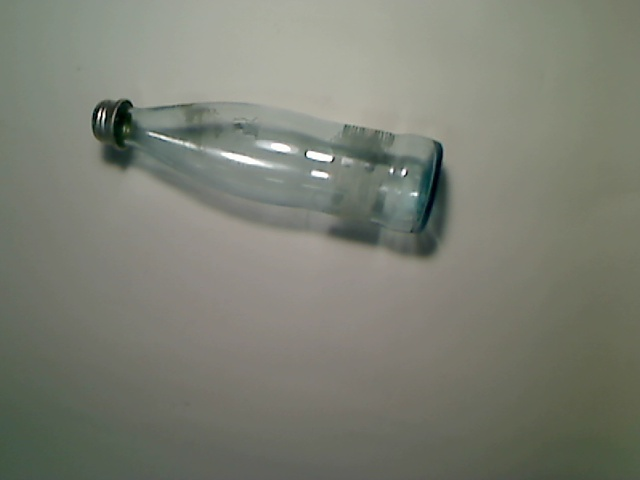bottle: (91, 97, 445, 237)
